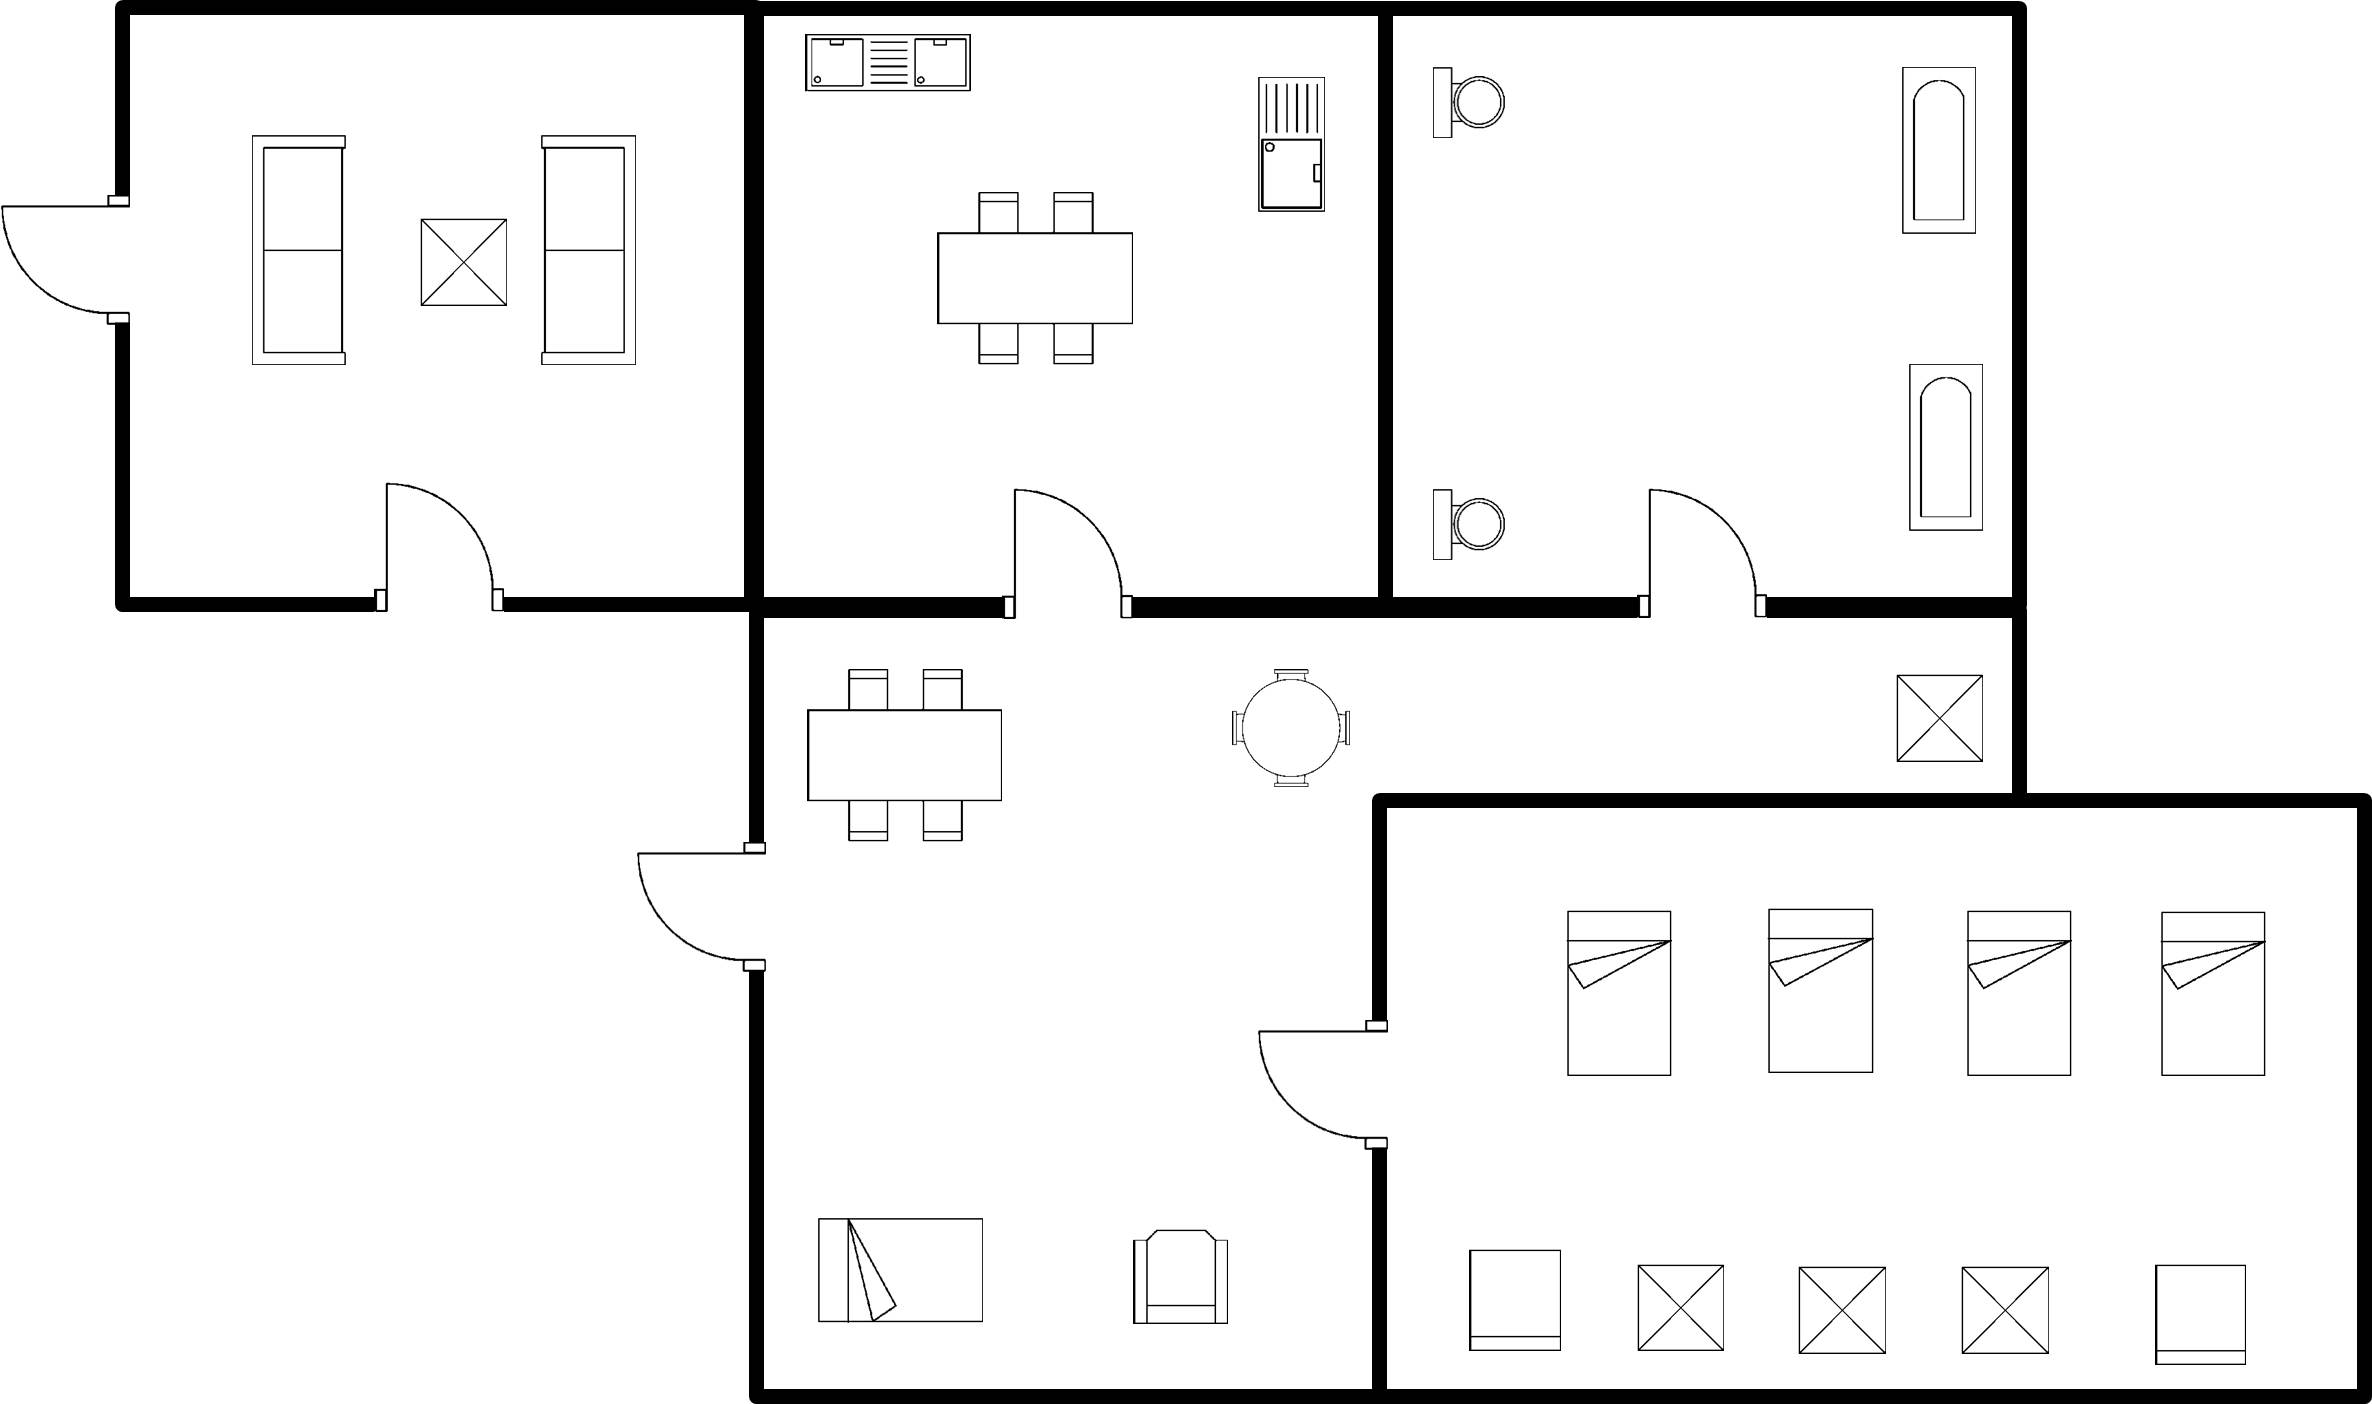armchair: (1117, 1215, 1241, 1337)
bed: (1752, 895, 1883, 1086), (1556, 902, 1688, 1091), (1956, 898, 2083, 1093), (2144, 900, 2274, 1091), (810, 1208, 993, 1334)
coffee_table: (1786, 1256, 1903, 1371), (1944, 1256, 2061, 1366), (1886, 661, 1993, 773), (407, 207, 515, 315), (1627, 1256, 1732, 1359)
dining_table: (786, 652, 1015, 849), (922, 183, 1147, 383)
large_sink: (1417, 54, 1510, 158), (1420, 478, 1515, 574)
large_sofa: (530, 115, 647, 383), (237, 122, 359, 378)
round_table: (1215, 656, 1371, 800)
sink: (1251, 64, 1337, 227)
small_sofa: (1456, 1237, 1571, 1364), (2144, 1256, 2257, 1374)
tub: (1888, 56, 1986, 251), (1898, 351, 1995, 542)
twin_sink: (795, 24, 980, 107)
